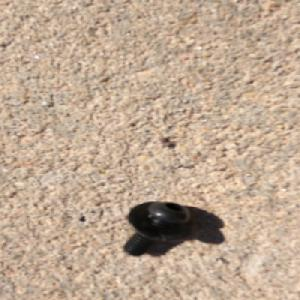BoltWasher: (120, 199, 197, 257)
